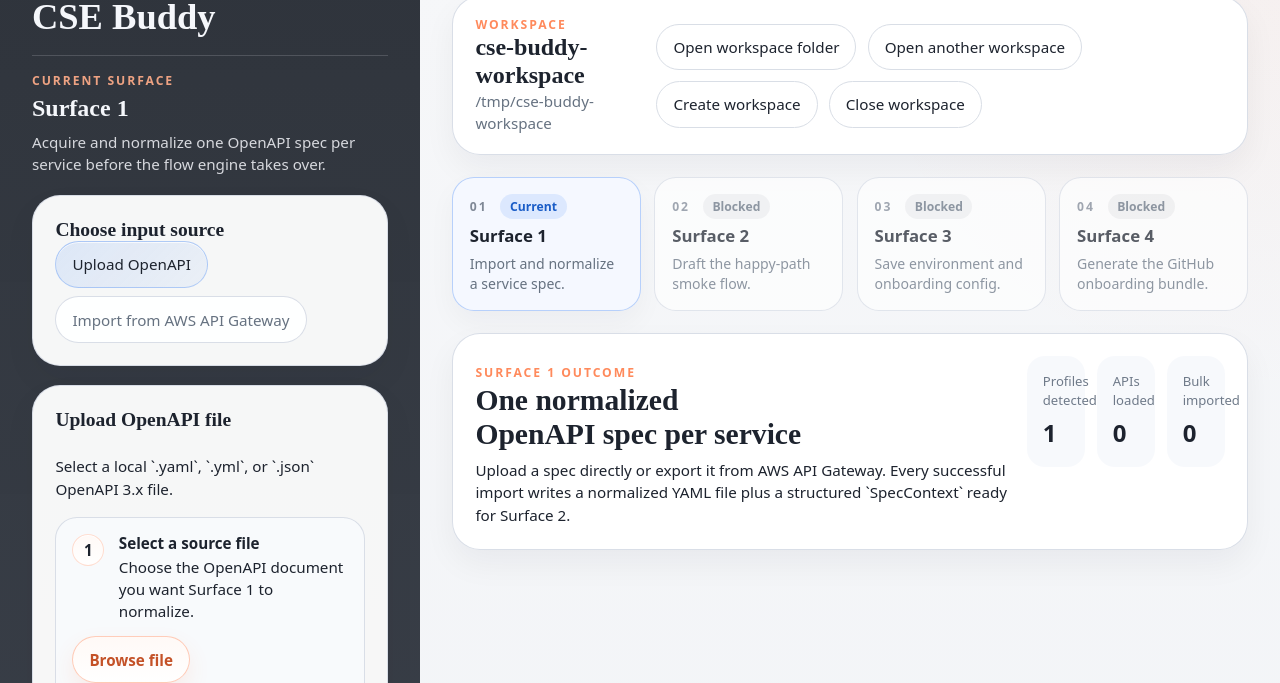
Test: App › renders AWS Test access failure feedback before Discover services
Click the button "Import from AWS API Gateway": (181, 320) x1=55 y1=296 x2=306 y2=343
(page scrolled)
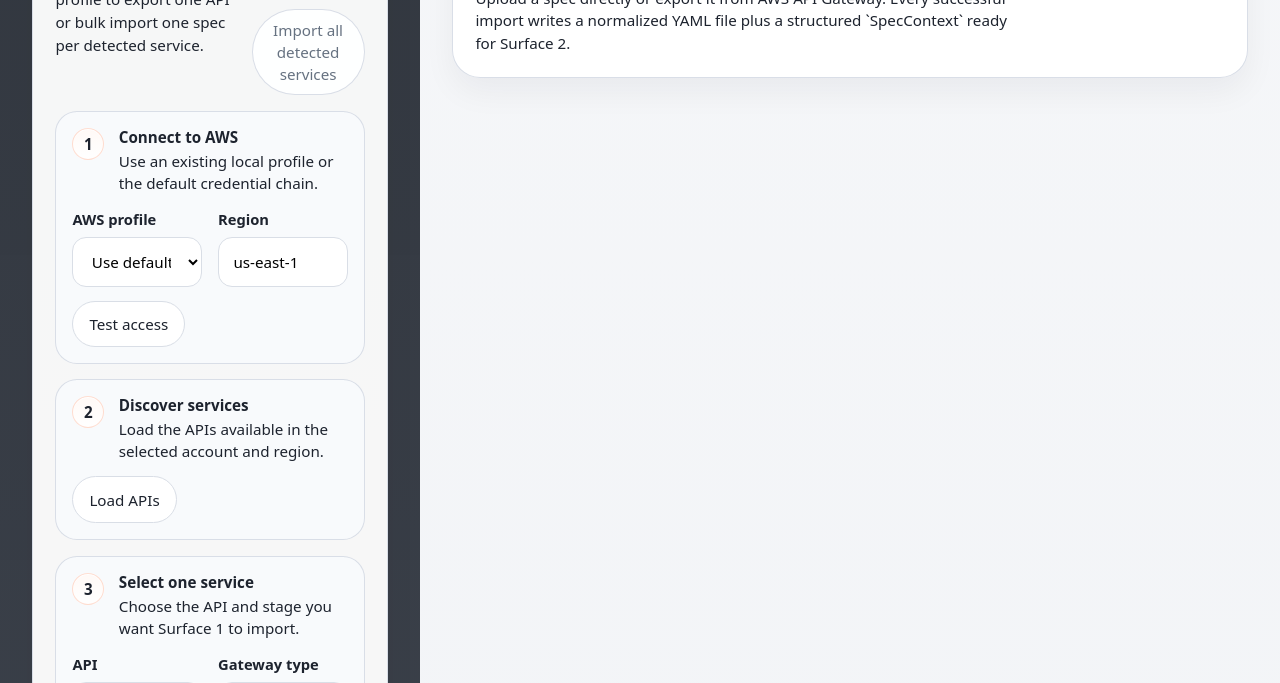
Click the button "Test access": (129, 324) x1=72 y1=301 x2=185 y2=347
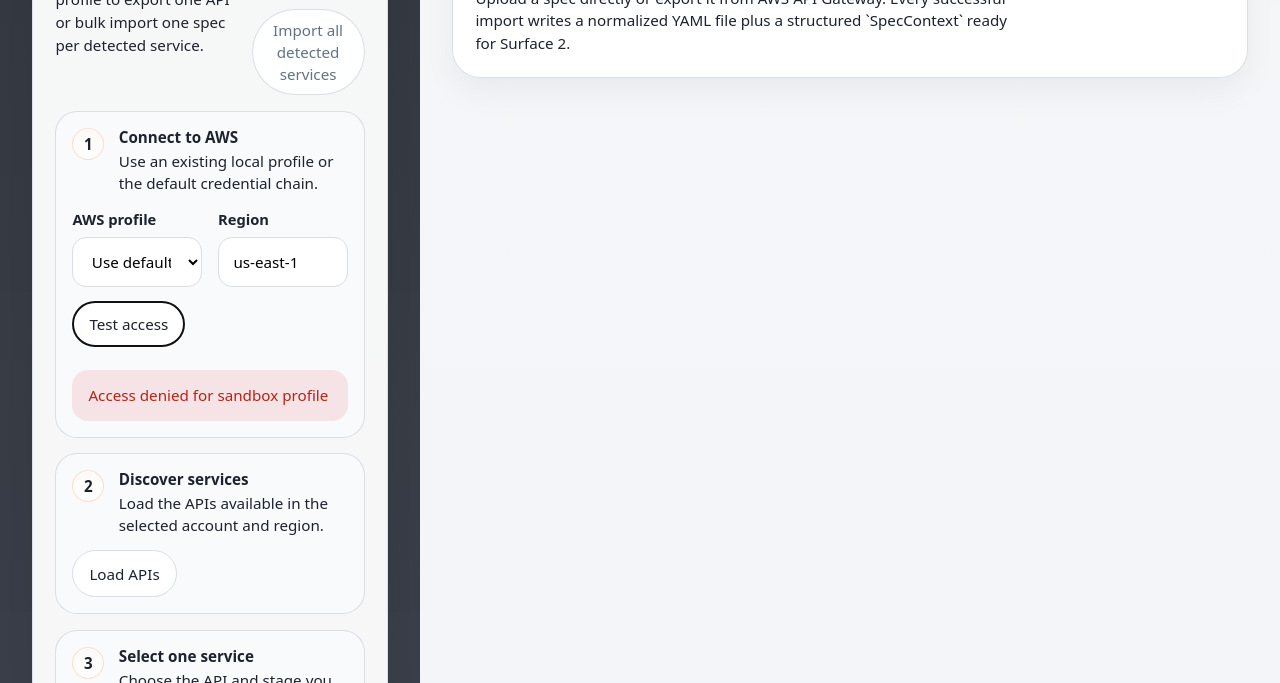
Expected: the text "Connect to AWS" is shown, x1=119 y1=127 x2=238 y2=147
Expected: the text "Access denied for sandbox profile" is shown once, x1=72 y1=370 x2=348 y2=421
